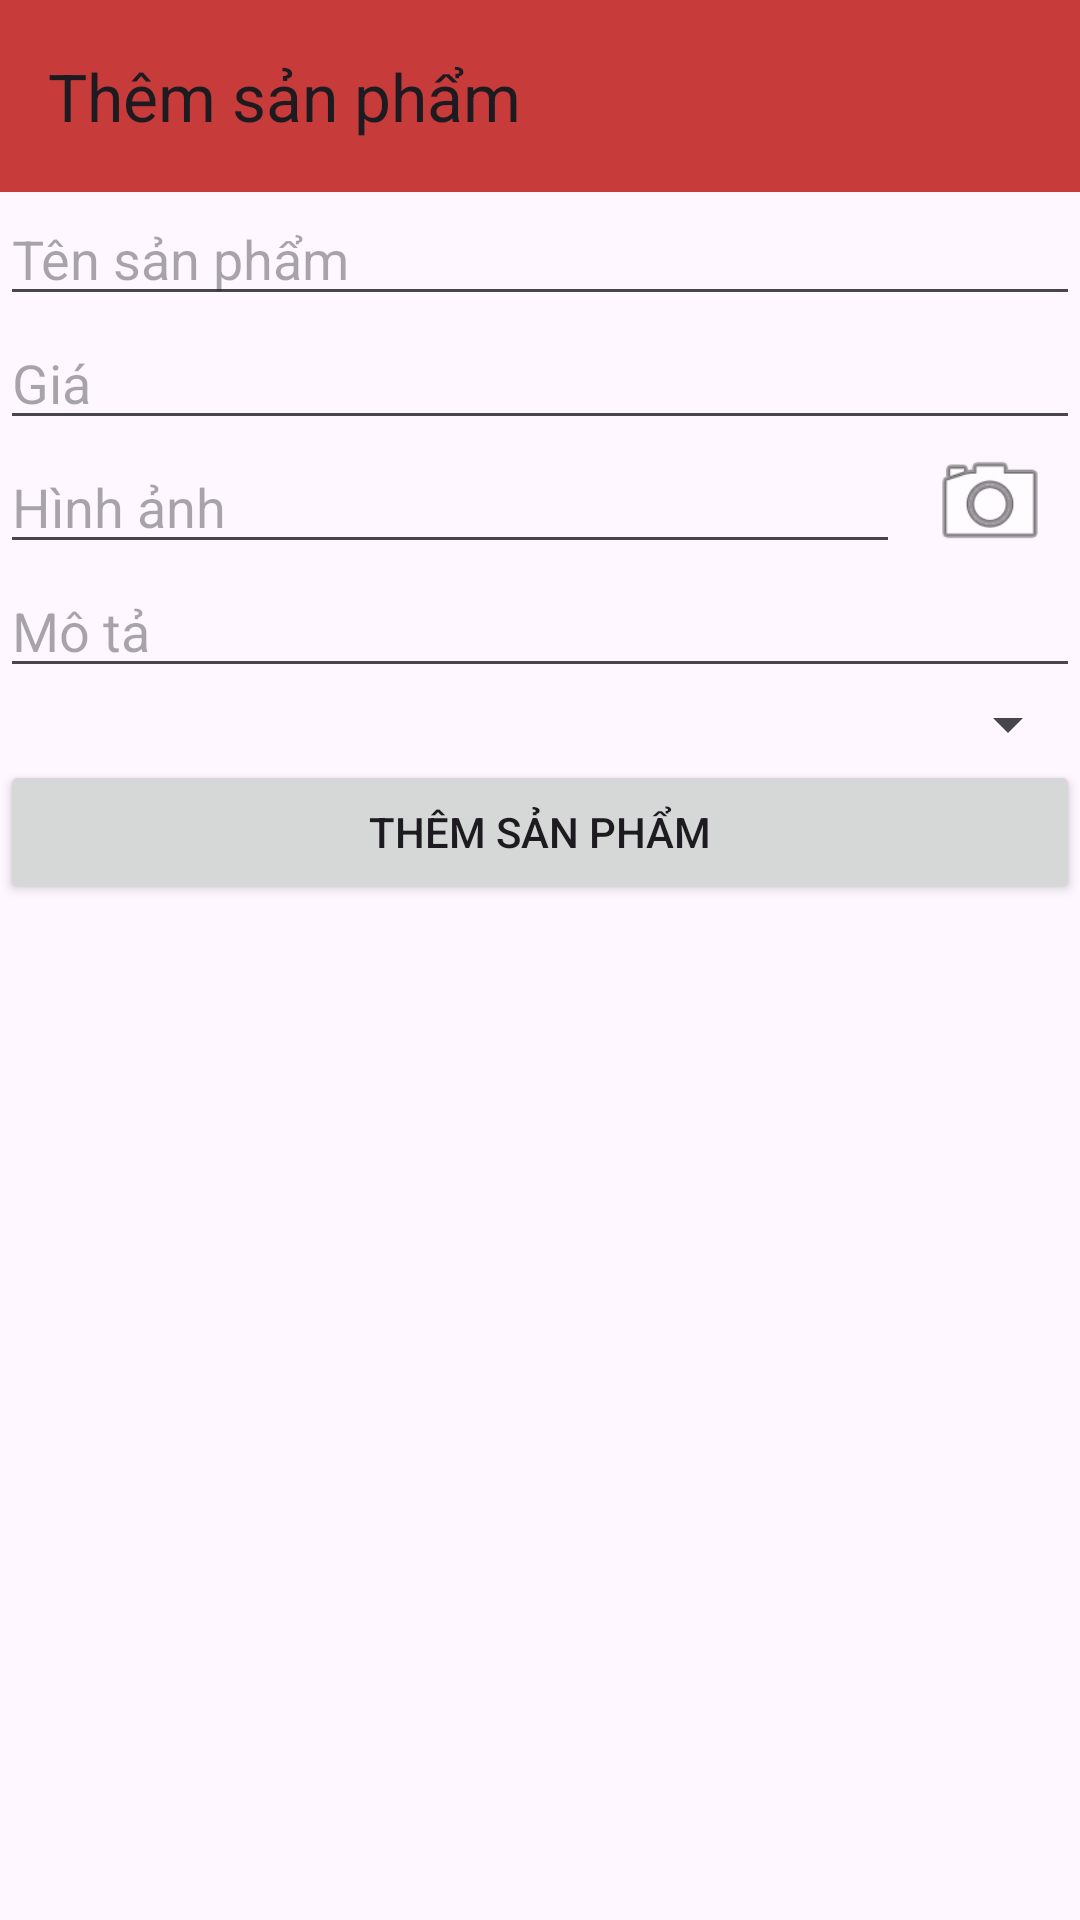

Named icons in this screenshot (1080w x 1920h) and their centers, (x,y):
camera: (990,500)
